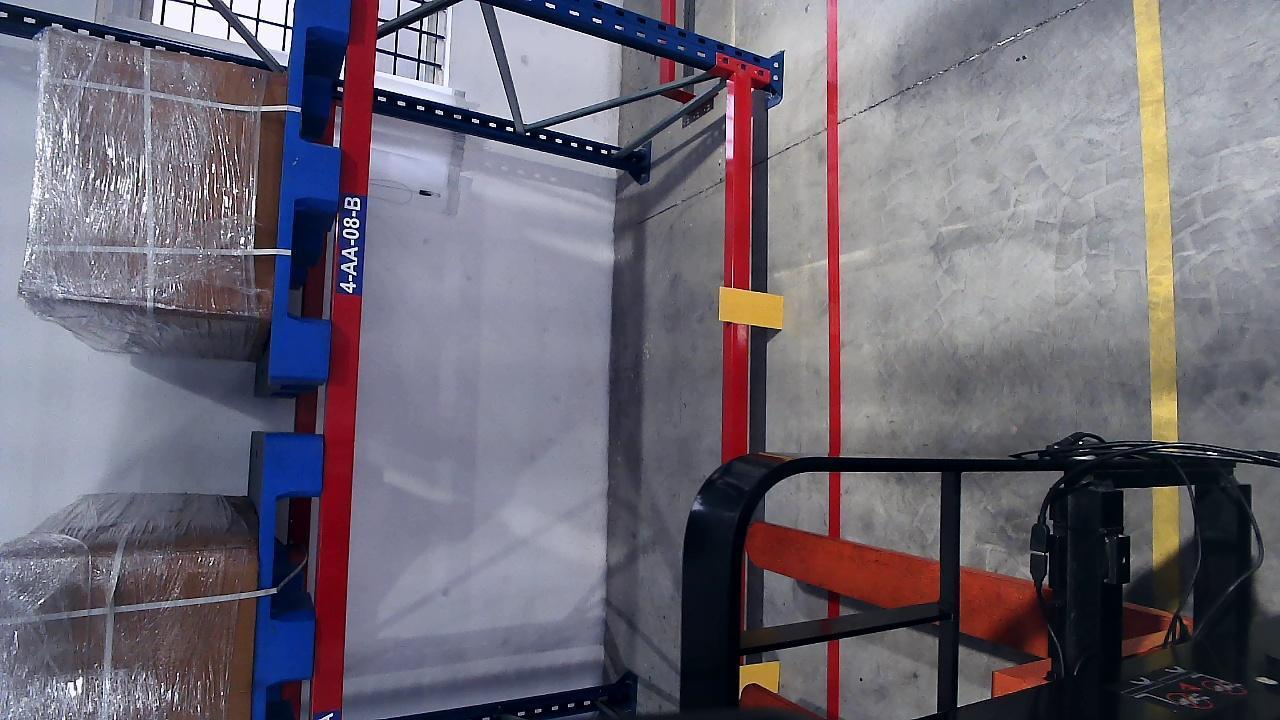red_line: (828, 11, 844, 540)
yellow_line: (1133, 0, 1181, 440)
